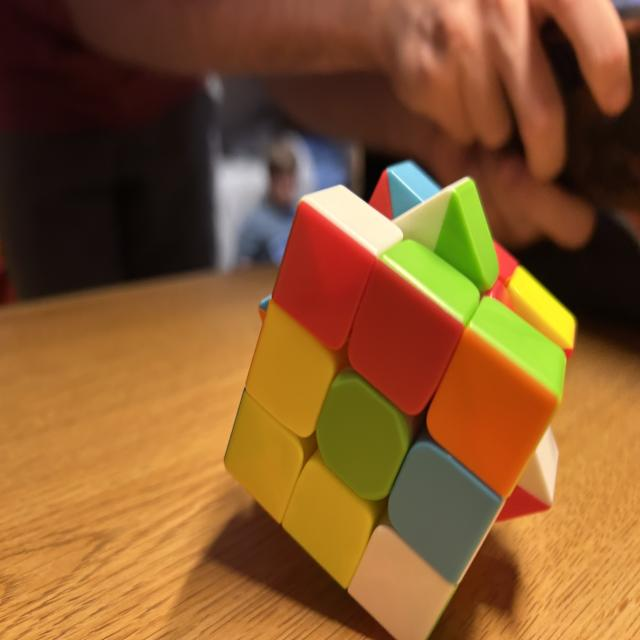Rubiks Cube: (224, 158, 578, 640)
